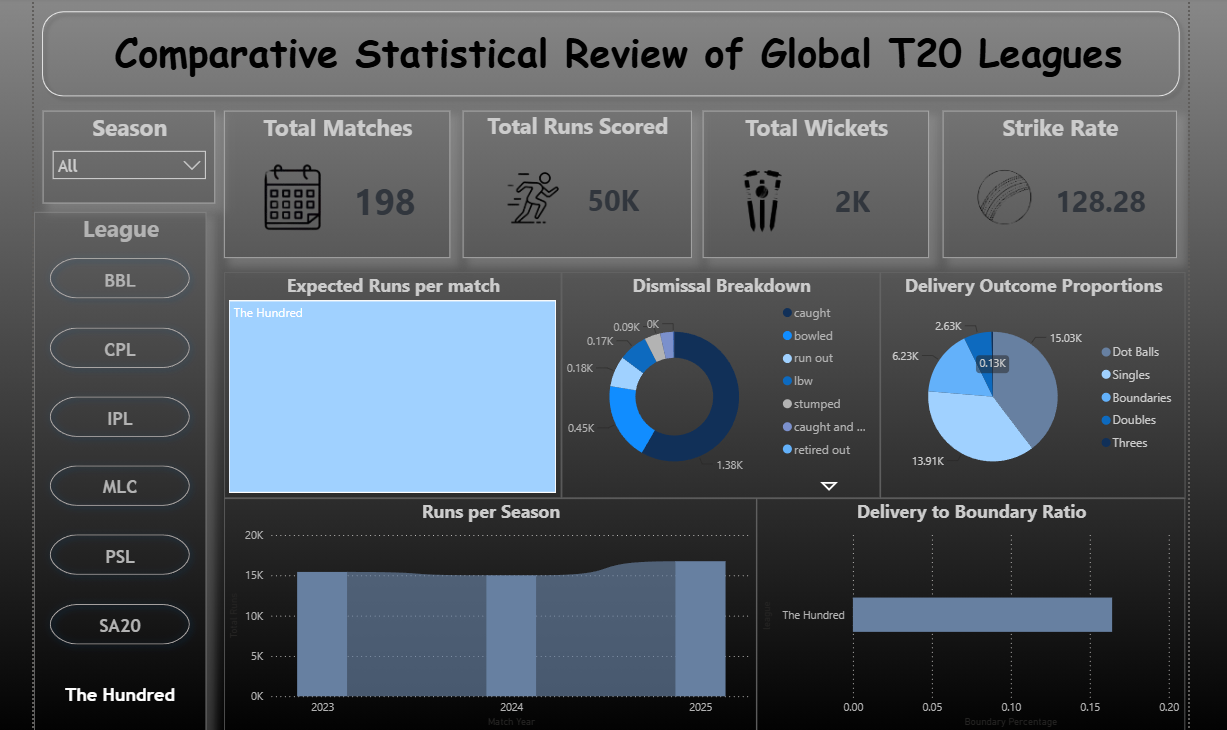

The page's visual inventory and layout, read from the dashboard file:
{"tool":"powerbi","page":{"name":"Page 1","canvas":[1285,820],"ordinal":0},"visuals":[{"type":"cardVisual","title":"Total Matches","fields":{"Data":["public matches.Total Matches"]},"box":[211.7,126.7,252.1,164.3],"z":0},{"type":"advancedSlicerVisual","title":"League","fields":{"Values":["public matches.league"]},"box":[9.7,239.5,192.2,580.7],"z":1000},{"type":"cardVisual","title":"Total Wickets","fields":{"Data":["public deliveries.Wickets Taken"]},"box":[745.1,126.7,252.1,164.3],"z":2000},{"type":"slicer","title":"Season","fields":{"Values":["public matches.Match Year"]},"box":[9.7,126.7,192.2,103.1],"z":3000},{"type":"cardVisual","title":"Total Runs Scored","fields":{"Data":["Sum(public deliveries.runs_total)"]},"box":[477.7,126.7,254.9,164.3],"z":4000},{"type":"treemap","title":"Expected Runs per match","fields":{"Group":["public matches.league"],"Values":["public deliveries.Average Runs per match"]},"box":[211.7,306.4,376,252.1],"z":5000},{"type":"ribbonChart","title":"Runs per Season","fields":{"Category":["public matches.Match Year"],"Y":["public deliveries.Total Runs"]},"box":[211.7,558.5,593.3,261.8],"z":6000},{"type":"donutChart","title":"Dismissal Breakdown","fields":{"Y":["CountNonNull(public deliveries.dismissal_kind)"],"Category":["public deliveries.dismissal_kind"]},"box":[587.7,306.4,355.1,252.1],"z":7000},{"type":"pieChart","title":"Delivery Outcome Proportions","fields":{"Category":["public deliveries.Run_category"],"Y":["CountNonNull(public deliveries.Run_category)"]},"box":[942.8,306.4,339.8,252.1],"z":8000},{"type":"clusteredBarChart","title":"Delivery to Boundary Ratio","fields":{"Y":["public matches.Boundary Percentage"],"Category":["public matches.league"]},"box":[805,558.5,477.7,261.8],"z":9000},{"type":"shape","box":[0,7,1285.4,112.8],"z":10000},{"type":"textbox","box":[20.9,26.5,1242.3,85],"z":11000},{"type":"cardVisual","title":"Strike Rate","fields":{"Data":["public deliveries.Strike Rate"]},"box":[1012.5,126.7,260.4,164.3],"z":12000}]}

Visuals, with their boxes on the page's 1285x820 design canvas (x1, y1, x2, y2). These are canvas units, not pixel positions in the 1227x730 screenshot, which may show the page scaled, cropped or inside an application window:
"Total Matches" cardVisual: bbox=[212, 127, 464, 291]
"League" advancedSlicerVisual: bbox=[10, 240, 202, 820]
"Total Wickets" cardVisual: bbox=[745, 127, 997, 291]
"Season" slicer: bbox=[10, 127, 202, 230]
"Total Runs Scored" cardVisual: bbox=[478, 127, 733, 291]
"Expected Runs per match" treemap: bbox=[212, 306, 588, 558]
"Runs per Season" ribbonChart: bbox=[212, 558, 805, 820]
"Dismissal Breakdown" donutChart: bbox=[588, 306, 943, 558]
"Delivery Outcome Proportions" pieChart: bbox=[943, 306, 1283, 558]
"Delivery to Boundary Ratio" clusteredBarChart: bbox=[805, 558, 1283, 820]
shape: bbox=[0, 7, 1285, 120]
textbox: bbox=[21, 26, 1263, 112]
"Strike Rate" cardVisual: bbox=[1012, 127, 1273, 291]
